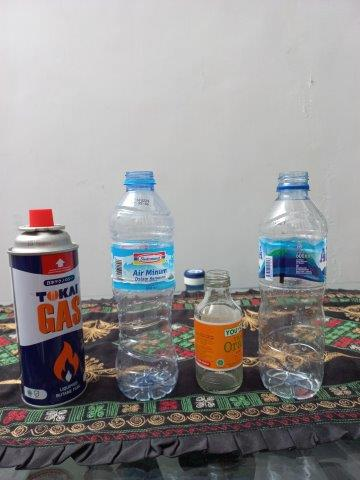botolkaca: (194, 270, 244, 394)
botolplastik: (258, 171, 327, 398), (111, 171, 177, 399)
kaleng: (8, 208, 87, 408)
